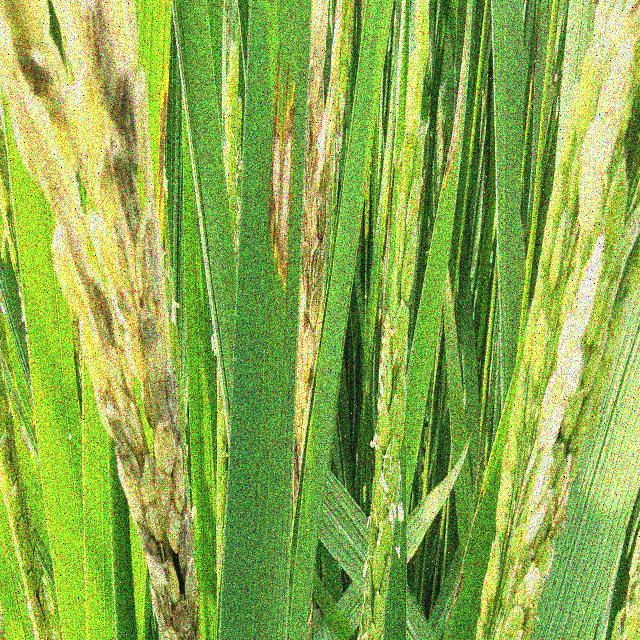LEAF BLAST: (268, 48, 296, 290)
